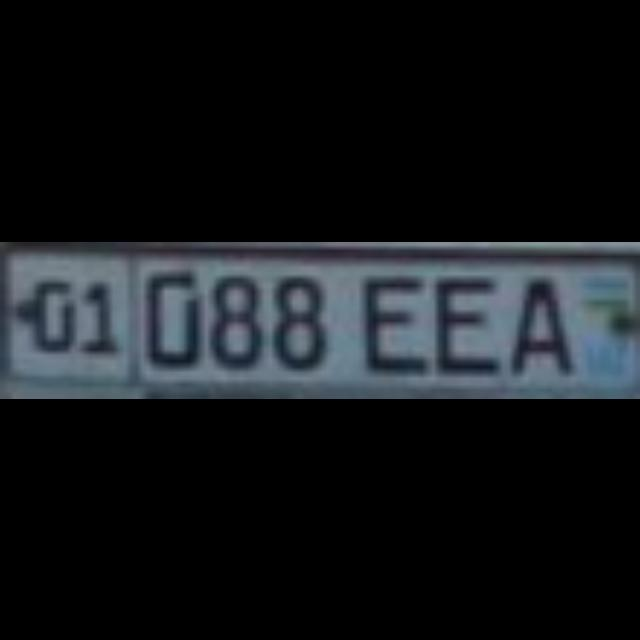0: (134, 264, 192, 364), (24, 276, 64, 346)
1: (70, 276, 110, 346)
8: (262, 270, 320, 364), (204, 270, 256, 364)
A: (500, 270, 558, 370)
E: (355, 270, 419, 370), (431, 270, 489, 370)
